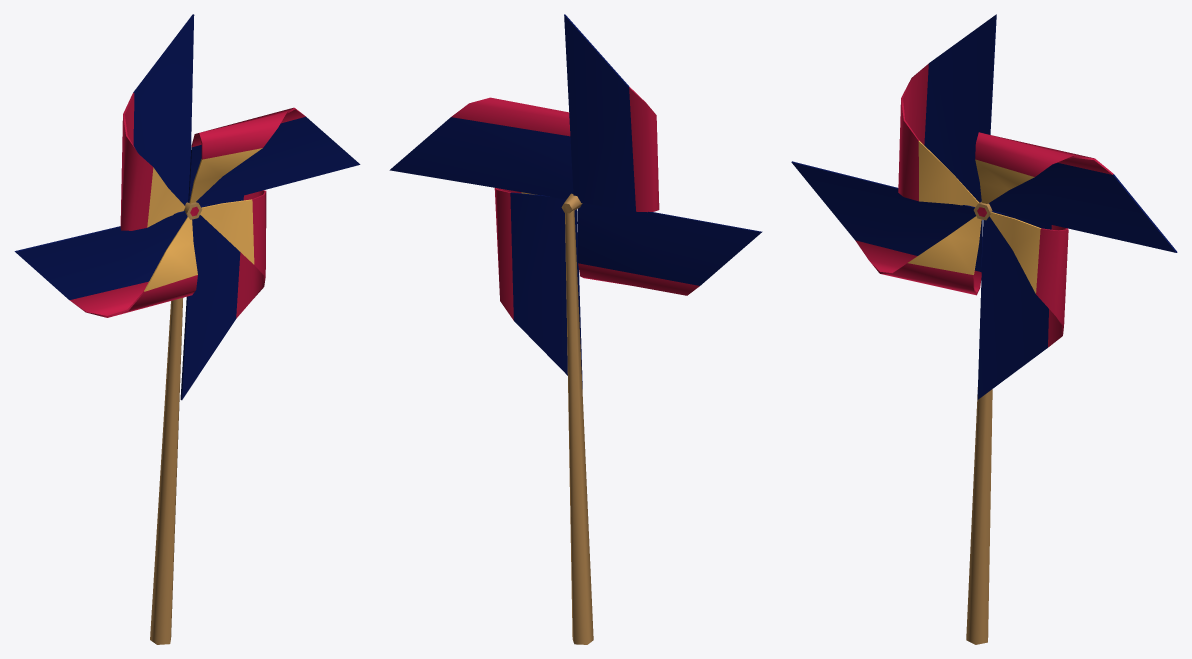
File: Rehilete.fbx
3 views of the same model, side by side, from view 1: azimuth 30°, elevation 25°; view 2: azimuth 150°, elevation 25°; view 3: azimuth 330°, elevation 25° (orthographic). The views are drawn at different scales.
Visible parts, largest first — view 1: Rehilete; view 2: Rehilete; view 3: Rehilete.
Part boxes in pixels (left/top/right/bottom): Rehilete: left=14, top=14, right=360, bottom=644; Rehilete: left=389, top=14, right=762, bottom=644; Rehilete: left=791, top=14, right=1177, bottom=644.
Bounding box in the file's own units: 1.09 × 1.81 × 0.1668.
